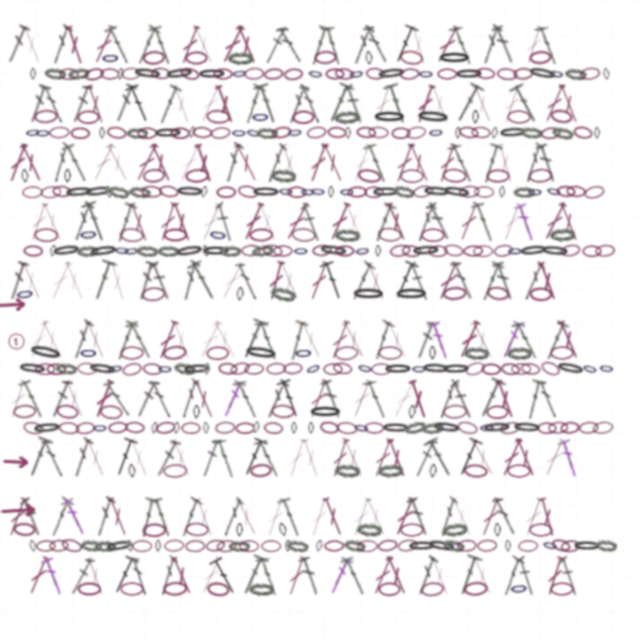chain: (27, 342, 64, 363), (243, 344, 279, 362), (415, 109, 451, 125), (527, 65, 558, 82), (555, 360, 586, 377), (269, 285, 297, 303), (441, 184, 472, 200), (88, 243, 119, 259), (174, 243, 205, 259), (87, 361, 118, 377), (104, 538, 135, 554), (426, 538, 457, 554), (437, 51, 472, 65), (372, 110, 407, 124), (351, 287, 386, 301), (394, 287, 429, 301), (308, 405, 343, 419), (356, 167, 382, 185), (132, 66, 163, 81), (164, 66, 195, 81), (376, 66, 407, 81), (83, 184, 114, 199), (51, 243, 82, 258), (318, 243, 349, 258), (518, 243, 549, 258), (17, 361, 48, 376), (431, 420, 462, 435), (441, 521, 468, 538), (539, 359, 562, 378), (333, 109, 360, 125), (399, 49, 424, 66), (549, 108, 574, 125), (162, 344, 187, 361), (55, 403, 80, 420), (64, 185, 94, 199), (540, 244, 570, 258), (182, 362, 212, 376), (32, 421, 62, 435), (486, 285, 510, 302), (403, 419, 427, 436), (119, 227, 144, 243), (291, 227, 316, 243), (141, 286, 166, 302), (334, 345, 359, 361), (463, 463, 488, 479), (420, 581, 445, 597), (60, 537, 83, 554), (498, 126, 528, 139), (270, 168, 296, 183), (175, 185, 205, 198), (422, 185, 452, 198), (549, 227, 575, 242), (411, 244, 441, 257), (421, 362, 451, 375), (482, 421, 512, 434), (512, 421, 542, 434), (334, 463, 360, 478), (377, 463, 403, 478), (356, 522, 382, 537), (99, 404, 123, 420), (206, 581, 230, 597), (442, 168, 467, 183), (528, 168, 553, 183), (377, 227, 402, 242), (442, 286, 467, 301), (463, 581, 488, 596), (229, 360, 251, 377), (464, 360, 486, 377), (550, 537, 572, 554), (551, 125, 574, 141), (107, 184, 130, 200), (583, 184, 606, 200), (456, 420, 479, 436), (499, 420, 522, 436), (227, 51, 253, 65), (334, 228, 360, 242), (463, 346, 489, 360), (506, 346, 532, 360), (248, 582, 274, 596), (142, 50, 166, 65), (197, 68, 227, 80), (454, 68, 484, 80), (34, 109, 58, 124), (206, 109, 230, 124), (153, 127, 183, 139), (142, 168, 166, 183), (185, 168, 209, 183), (251, 186, 281, 198), (371, 186, 401, 198), (201, 245, 231, 257), (383, 363, 413, 375), (441, 363, 471, 375), (271, 404, 295, 419), (443, 404, 467, 419), (381, 422, 411, 434), (249, 463, 273, 478), (185, 522, 209, 537), (407, 540, 437, 552), (572, 540, 602, 552), (163, 581, 187, 596), (83, 66, 105, 82), (179, 66, 201, 82), (121, 361, 143, 377), (22, 420, 44, 436), (314, 50, 337, 65), (529, 50, 552, 65), (67, 66, 90, 81), (392, 184, 415, 199), (251, 243, 274, 258), (173, 361, 196, 376), (13, 404, 36, 419), (13, 522, 36, 537), (343, 538, 366, 553), (442, 538, 465, 553), (507, 110, 531, 124), (400, 169, 424, 183), (486, 169, 510, 183), (34, 228, 58, 242), (163, 228, 187, 242), (249, 228, 273, 242), (421, 228, 445, 242), (120, 346, 144, 360), (378, 346, 402, 360), (550, 346, 574, 360), (163, 464, 187, 478), (507, 464, 531, 478), (142, 523, 166, 537), (400, 523, 424, 537), (529, 523, 553, 537), (77, 582, 101, 596), (120, 582, 144, 596), (550, 582, 574, 596), (579, 66, 601, 81), (405, 125, 427, 140), (572, 125, 594, 140), (237, 184, 259, 199), (412, 184, 434, 199), (389, 243, 411, 258), (592, 420, 614, 435), (304, 360, 323, 377), (185, 51, 208, 65), (564, 67, 587, 81), (77, 110, 100, 124), (292, 110, 315, 124), (128, 185, 151, 199), (76, 244, 99, 258), (529, 287, 552, 301), (206, 346, 229, 360), (486, 405, 509, 419), (421, 421, 444, 435), (286, 539, 309, 553), (378, 582, 401, 596), (208, 227, 228, 243), (15, 286, 35, 302), (106, 125, 127, 140), (271, 125, 292, 140), (306, 125, 327, 140), (458, 125, 479, 140), (158, 184, 179, 199), (262, 243, 283, 258), (443, 243, 464, 258), (493, 243, 514, 258), (560, 243, 581, 258), (332, 361, 353, 376), (155, 420, 176, 435), (319, 420, 340, 435), (205, 538, 226, 553), (377, 538, 398, 553), (397, 538, 418, 553), (496, 67, 518, 81), (40, 185, 62, 199), (58, 421, 80, 435), (336, 421, 358, 435), (509, 581, 529, 596), (263, 67, 284, 81), (283, 67, 304, 81), (334, 67, 355, 81), (399, 67, 420, 81), (210, 126, 231, 140), (540, 126, 561, 140), (401, 244, 422, 258), (142, 362, 163, 376), (500, 362, 521, 376), (520, 362, 541, 376), (75, 421, 96, 435), (263, 421, 284, 435), (216, 539, 237, 553), (560, 539, 581, 553), (581, 361, 599, 377), (44, 67, 66, 80), (520, 126, 542, 139), (55, 362, 77, 375), (80, 539, 102, 552), (595, 539, 617, 552), (79, 227, 98, 242), (365, 67, 386, 80), (49, 126, 70, 139), (368, 126, 389, 139), (141, 185, 162, 198), (459, 185, 480, 198), (578, 421, 599, 434), (545, 184, 563, 199), (356, 361, 374, 376), (541, 538, 559, 553), (101, 51, 120, 65), (251, 110, 270, 124), (79, 346, 98, 360), (294, 346, 313, 360), (126, 127, 148, 139), (256, 127, 278, 139), (513, 186, 535, 198), (136, 245, 158, 257), (157, 245, 179, 257), (219, 245, 241, 257), (94, 540, 116, 552), (228, 540, 250, 552), (121, 67, 141, 80), (151, 67, 171, 80), (244, 67, 264, 80), (475, 67, 495, 80), (513, 67, 533, 80), (192, 126, 212, 139), (327, 126, 347, 139), (356, 126, 376, 139), (471, 126, 491, 139), (52, 185, 72, 198), (556, 185, 576, 198), (566, 185, 586, 198), (241, 244, 261, 257), (312, 244, 332, 257), (595, 244, 615, 257), (77, 362, 97, 375), (218, 362, 238, 375), (266, 362, 286, 375), (283, 362, 303, 375), (108, 421, 128, 434), (125, 421, 145, 434), (215, 421, 235, 434), (548, 421, 568, 434), (560, 421, 580, 434), (49, 539, 69, 552), (164, 539, 184, 552), (457, 539, 477, 552), (477, 539, 497, 552), (22, 186, 43, 198), (371, 363, 392, 375), (357, 540, 378, 552), (59, 68, 79, 80), (100, 68, 120, 80), (213, 68, 233, 80), (325, 68, 345, 80), (437, 68, 457, 80), (70, 127, 90, 139), (137, 127, 157, 139), (170, 127, 190, 139), (391, 127, 411, 139), (216, 186, 236, 198), (287, 186, 307, 198), (347, 186, 367, 198), (364, 186, 384, 198), (474, 186, 494, 198), (23, 245, 43, 257), (273, 245, 293, 257), (335, 245, 355, 257), (428, 245, 448, 257), (463, 245, 483, 257), (473, 245, 493, 257), (582, 245, 602, 257), (35, 363, 55, 375), (46, 363, 66, 375), (244, 363, 264, 375), (323, 363, 343, 375), (481, 363, 501, 375), (511, 363, 531, 375), (181, 422, 201, 434), (235, 422, 255, 434), (364, 422, 384, 434), (537, 422, 557, 434), (36, 540, 56, 552), (132, 540, 152, 552), (185, 540, 205, 552), (239, 540, 259, 552), (261, 540, 281, 552), (324, 540, 344, 552), (518, 540, 538, 552), (307, 67, 324, 81), (348, 67, 365, 81), (548, 67, 565, 81), (245, 126, 262, 140), (123, 244, 140, 258), (354, 244, 371, 258), (353, 421, 370, 435), (231, 67, 248, 80), (107, 362, 124, 375), (598, 362, 615, 375), (25, 126, 41, 139), (287, 126, 303, 139), (428, 126, 444, 139), (278, 185, 294, 198), (310, 185, 326, 198), (114, 244, 130, 257), (479, 421, 495, 434), (418, 68, 434, 80), (35, 127, 51, 139), (231, 127, 247, 139), (300, 186, 316, 198), (339, 186, 355, 198), (527, 186, 543, 198), (293, 245, 309, 257), (507, 245, 523, 257), (157, 363, 173, 375), (411, 363, 427, 375), (92, 422, 108, 434), (278, 522, 288, 537), (365, 51, 373, 65), (21, 169, 29, 183), (236, 287, 244, 301), (408, 405, 416, 419), (128, 464, 136, 478), (429, 464, 437, 478), (188, 126, 196, 139), (252, 421, 260, 434), (472, 110, 479, 124), (64, 169, 71, 183), (429, 346, 436, 360), (193, 405, 200, 419), (236, 523, 243, 537), (494, 523, 501, 537), (105, 186, 113, 198), (200, 186, 208, 198), (49, 245, 57, 257), (202, 245, 210, 257), (29, 540, 37, 552), (126, 540, 134, 552), (315, 540, 323, 552), (117, 68, 124, 80), (603, 68, 610, 80), (491, 127, 498, 139), (151, 422, 158, 434), (173, 422, 180, 434), (30, 68, 36, 80), (99, 127, 105, 139), (345, 127, 351, 139), (455, 127, 461, 139), (594, 127, 600, 139), (328, 186, 334, 198), (499, 186, 505, 198), (375, 245, 381, 257), (204, 363, 210, 375), (203, 422, 209, 434), (291, 422, 297, 434), (308, 422, 314, 434), (155, 540, 161, 552), (285, 540, 291, 552), (505, 540, 511, 552)
double: (423, 436, 457, 479), (452, 82, 485, 125), (509, 82, 542, 125), (187, 259, 220, 302), (208, 555, 241, 597), (475, 377, 507, 420), (324, 82, 355, 125), (238, 318, 269, 361), (109, 554, 140, 597), (238, 554, 269, 597), (390, 23, 420, 66), (124, 82, 154, 125), (390, 259, 420, 302), (24, 436, 54, 479), (239, 436, 269, 479), (454, 436, 484, 479), (132, 24, 162, 66), (153, 83, 183, 125), (60, 142, 90, 184), (347, 260, 377, 302), (124, 319, 154, 361), (511, 319, 541, 361), (540, 319, 570, 361), (253, 437, 283, 479), (253, 82, 282, 125), (81, 200, 110, 243), (89, 259, 118, 302), (282, 201, 312, 242), (210, 319, 240, 360), (339, 319, 369, 360), (468, 437, 498, 478), (103, 24, 132, 66), (447, 142, 476, 184), (476, 260, 505, 302), (17, 378, 46, 420), (232, 378, 261, 420), (339, 437, 368, 479), (46, 496, 75, 538), (339, 555, 368, 597), (383, 82, 411, 125), (319, 259, 347, 302), (276, 377, 304, 420), (111, 436, 139, 479), (455, 554, 483, 597), (218, 24, 247, 65), (433, 24, 462, 65), (17, 142, 46, 183), (89, 142, 118, 183), (103, 142, 132, 183), (132, 142, 161, 183), (232, 142, 261, 183), (425, 201, 454, 242), (540, 201, 569, 242), (218, 260, 247, 301), (38, 319, 67, 360), (196, 319, 225, 360), (468, 319, 497, 360), (390, 378, 419, 419), (60, 496, 89, 537), (232, 496, 261, 537), (448, 24, 476, 66), (197, 201, 225, 243), (369, 201, 397, 243), (434, 260, 462, 302), (111, 319, 139, 361), (190, 378, 218, 420), (362, 378, 390, 420), (176, 496, 204, 538), (498, 555, 526, 597), (90, 24, 118, 65), (147, 142, 175, 183), (176, 142, 204, 183), (319, 142, 347, 183), (405, 142, 433, 183), (47, 260, 75, 301), (297, 319, 325, 360), (383, 319, 411, 360), (455, 319, 483, 360), (498, 319, 526, 360), (219, 378, 247, 419), (362, 496, 390, 537), (448, 496, 476, 537), (168, 555, 196, 596), (197, 555, 225, 596), (326, 555, 354, 596), (147, 24, 174, 66), (305, 24, 332, 66), (534, 24, 561, 66), (240, 83, 267, 125), (362, 142, 389, 184), (477, 142, 504, 184), (111, 201, 138, 243), (154, 319, 181, 361), (254, 319, 281, 361), (369, 319, 396, 361), (276, 496, 303, 538), (477, 496, 504, 538), (103, 379, 132, 418), (262, 379, 290, 419), (4, 24, 31, 65), (190, 24, 217, 65), (233, 24, 260, 65), (491, 24, 518, 65), (197, 83, 224, 124), (469, 83, 496, 124), (541, 83, 568, 124), (39, 201, 66, 242), (240, 201, 267, 242), (254, 201, 281, 242), (326, 201, 353, 242), (383, 201, 410, 242), (18, 260, 45, 301), (61, 260, 88, 301), (276, 260, 303, 301), (82, 319, 109, 360), (555, 319, 582, 360), (61, 378, 88, 419), (82, 437, 109, 478), (168, 437, 195, 478), (498, 437, 525, 478), (512, 437, 539, 478), (541, 437, 568, 478), (391, 496, 418, 537), (25, 555, 52, 596), (369, 555, 396, 596), (383, 555, 410, 596), (469, 555, 496, 596), (177, 24, 203, 66), (212, 83, 238, 125), (427, 83, 453, 125), (5, 142, 31, 184), (349, 142, 375, 184), (126, 201, 152, 243), (169, 201, 195, 243), (470, 201, 496, 243), (499, 201, 525, 243), (306, 260, 332, 302), (363, 260, 389, 302), (327, 319, 353, 361), (91, 378, 117, 420), (492, 378, 518, 420), (212, 437, 238, 479), (370, 437, 396, 479), (384, 437, 410, 479), (148, 496, 174, 538), (191, 496, 217, 538), (40, 555, 66, 597), (255, 555, 281, 597), (276, 25, 303, 65), (154, 438, 181, 478), (19, 24, 45, 65), (363, 24, 389, 65), (112, 83, 138, 124), (556, 83, 582, 124), (69, 201, 95, 242), (341, 201, 367, 242), (456, 201, 482, 242), (556, 201, 582, 242), (26, 319, 52, 360), (134, 378, 160, 419), (349, 378, 375, 419), (126, 437, 152, 478), (105, 496, 131, 537), (320, 496, 346, 537), (406, 496, 432, 537), (413, 555, 439, 596), (427, 555, 453, 596), (62, 24, 87, 66), (320, 24, 345, 66), (26, 83, 51, 125), (83, 83, 108, 125), (169, 83, 194, 125), (413, 83, 438, 125), (277, 142, 302, 184), (306, 142, 331, 184), (392, 142, 417, 184), (435, 142, 460, 184), (535, 142, 560, 184), (26, 201, 51, 243), (513, 201, 538, 243), (492, 260, 517, 302), (535, 260, 560, 302), (169, 319, 194, 361), (284, 319, 309, 361), (427, 319, 452, 361), (306, 378, 331, 420), (320, 378, 345, 420), (406, 378, 431, 420), (521, 378, 546, 420), (5, 496, 30, 538), (263, 496, 288, 538), (349, 496, 374, 538), (521, 496, 546, 538), (83, 555, 108, 597), (284, 555, 309, 597), (298, 555, 323, 597), (263, 25, 289, 65), (349, 25, 375, 65), (284, 84, 310, 124), (449, 379, 475, 419), (69, 556, 95, 596), (48, 24, 73, 65), (478, 24, 503, 65), (148, 260, 173, 301), (69, 319, 94, 360), (69, 437, 94, 478), (19, 496, 44, 537), (492, 496, 517, 537), (522, 24, 546, 66), (371, 83, 395, 125), (500, 83, 524, 125), (192, 142, 216, 184), (493, 142, 517, 184), (156, 201, 180, 243), (6, 260, 30, 302), (6, 378, 30, 420), (285, 437, 309, 479), (299, 437, 323, 479), (328, 437, 352, 479), (557, 437, 581, 479), (135, 496, 159, 538), (307, 496, 331, 538), (543, 555, 567, 597), (521, 261, 546, 301), (413, 438, 438, 478), (220, 497, 245, 537), (342, 83, 366, 124), (450, 260, 474, 301), (414, 319, 438, 360), (49, 378, 73, 419), (92, 496, 116, 537), (407, 24, 430, 66), (106, 260, 129, 302), (135, 260, 158, 302), (536, 496, 559, 538), (41, 84, 65, 124), (264, 143, 288, 183), (299, 202, 323, 242), (414, 202, 438, 242), (235, 261, 259, 301), (407, 261, 431, 301), (149, 379, 173, 419), (436, 379, 460, 419), (41, 438, 65, 478), (70, 83, 93, 124), (221, 142, 244, 183), (522, 142, 545, 183), (178, 260, 201, 301), (178, 378, 201, 419), (536, 378, 559, 419), (299, 84, 322, 124), (50, 142, 72, 183), (265, 260, 287, 301), (200, 437, 222, 478), (437, 496, 459, 537), (157, 555, 179, 596), (515, 555, 537, 596), (558, 555, 580, 596), (214, 201, 235, 242), (129, 555, 149, 596)
noise: (0, 502, 37, 518), (0, 297, 27, 312), (6, 331, 26, 351), (2, 456, 30, 468)
